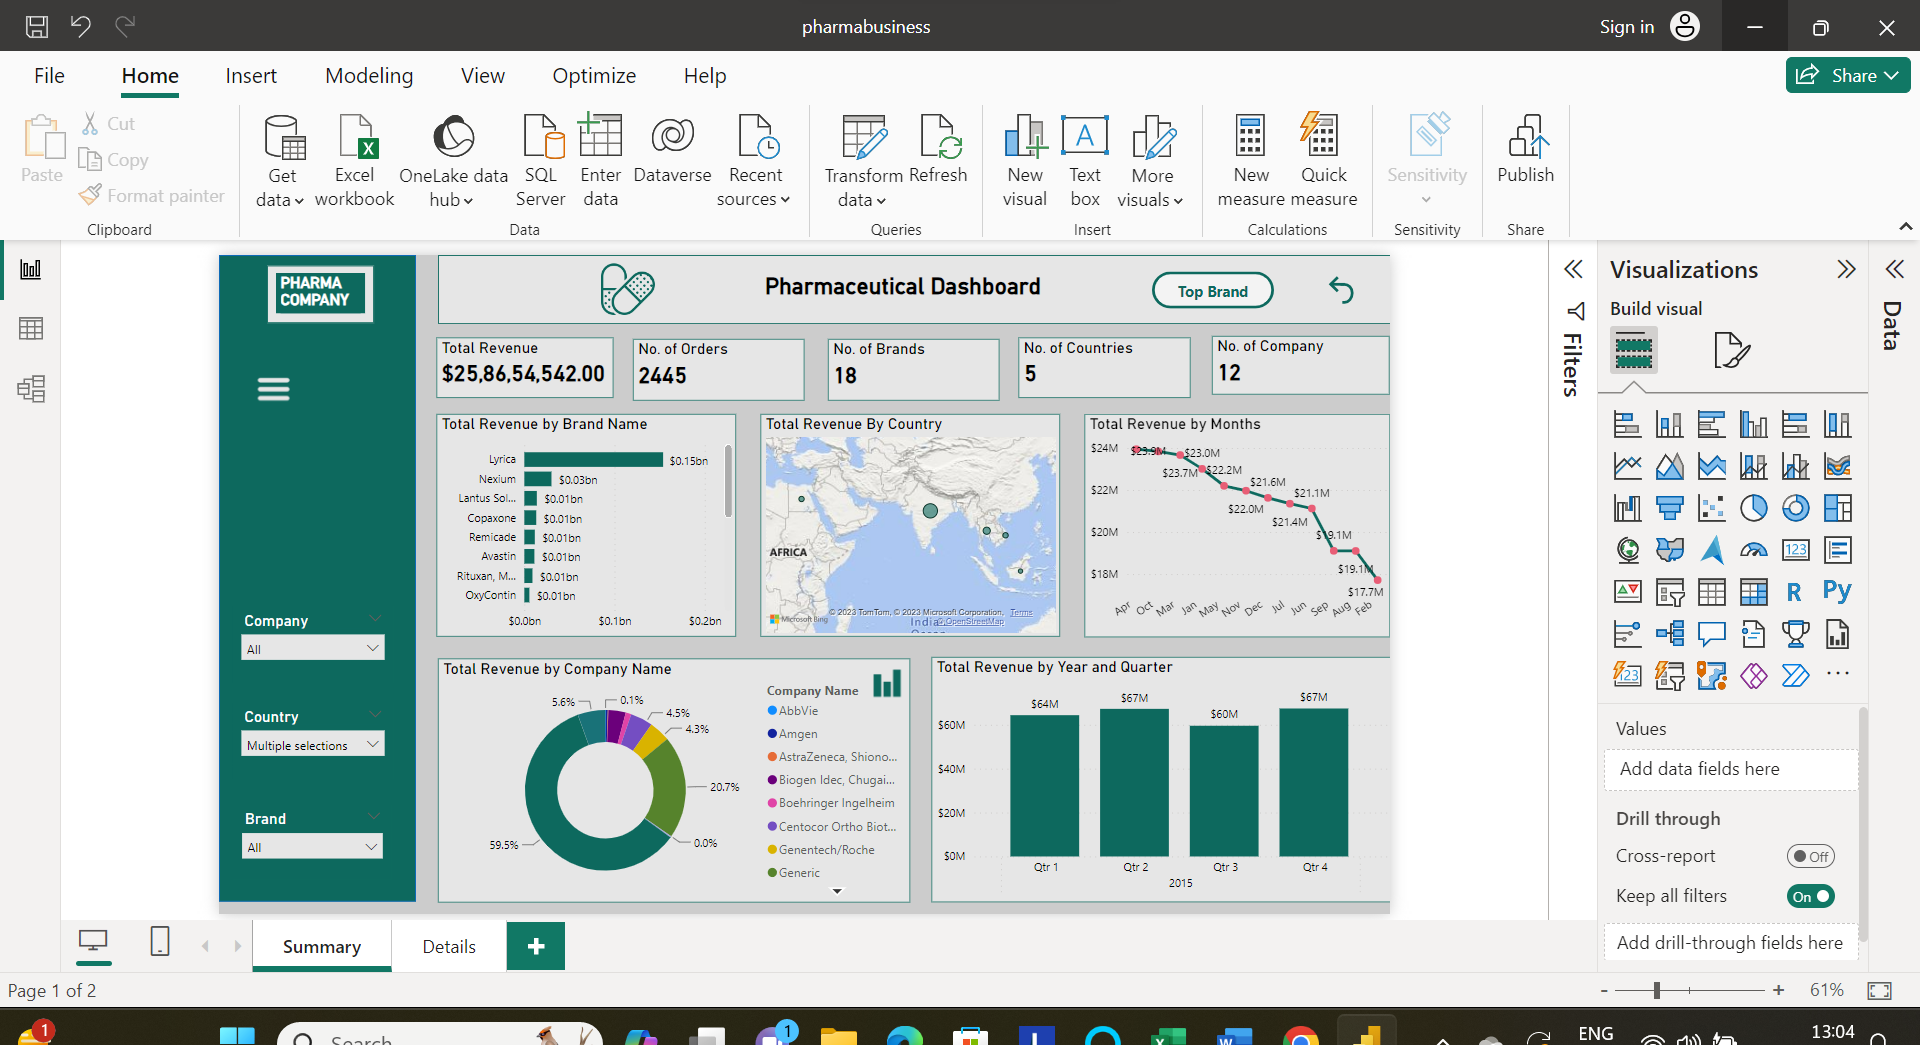

The page's visual inventory and layout, read from the dashboard file:
{"tool":"powerbi","page":{"name":"Summary","canvas":[1280,720],"ordinal":0},"visuals":[{"type":"shape","box":[238.6,0,1042.1,75.4],"z":0},{"type":"shape","box":[52,12,117,63],"z":0,"group":"g1"},{"type":"textbox","title":"Pharmaceutical Dashboard","box":[591.5,20.3,337.3,69.5],"z":1000},{"type":"textbox","title":"PHARMA COMPANY","box":[62,21,97,46],"z":1000,"group":"g1"},{"type":"multiRowCard","title":"Total Revenue","fields":{"Values":["PharmaDataset.Total Revenue"]},"box":[238.6,89.5,187.7,66.7],"z":2000},{"type":"multiRowCard","title":"No. of Countries","fields":{"Values":["PharmaDataset.#No. of country"]},"box":[874.3,90.5,187.8,66.2],"z":3000},{"type":"multiRowCard","title":"No. of Brands","fields":{"Values":["PharmaDataset.#No. of brand"]},"box":[666.2,90.5,187.8,64.9],"z":4000},{"type":"clusteredBarChart","fields":{"Category":["PharmaDataset.Brand Name"],"Y":["PharmaDataset.Total Revenue"]},"box":[237.8,174.3,327,243.2],"z":5000},{"type":"shape","box":[0,0,215.3,706.8],"z":6000},{"type":"multiRowCard","title":"No. of Company","fields":{"Values":["PharmaDataset.#No. of company"]},"box":[1086,88,194,64],"z":7000},{"type":"slicer","title":"Country","fields":{"Values":["PharmaDataset.ship to country"]},"box":[14.1,488.9,175.8,84.8],"z":8000},{"type":"multiRowCard","title":"No. of Orders","fields":{"Values":["PharmaDataset.#Total orders"]},"box":[452.7,90.5,187.8,67.6],"z":9000},{"type":"map","title":"Total Revenue  By Country","fields":{"Category":["PharmaDataset.ship to country"],"Size":["PharmaDataset.Total Revenue"]},"box":[591.9,174.3,327,243.2],"z":10000},{"type":"lineChart","fields":{"Y":["PharmaDataset.Total Revenue"],"Category":["PharmaDataset.Months"]},"box":[946,174,334,244],"z":12000},{"type":"slicer","title":"Brand","fields":{"Values":["PharmaDataset.Brand Name"]},"box":[15.2,600,174.7,82.8],"z":13000},{"type":"image","box":[402,0,90.2,74.5],"z":14000},{"type":"group","id":"g1","title":"Group 1","box":[52,12,117,63],"z":15000},{"type":"clusteredColumnChart","fields":{"Y":["Sum(PharmaDataset.Revenue)"],"Category":["PharmaDataset.Invoice date.Variation.Date Hierarchy.Year","PharmaDataset.Invoice date.Variation.Date Hierarchy.Quarter","PharmaDataset.Invoice date.Variation.Date Hierarchy.Month"]},"box":[778,440,502,268],"z":16000},{"type":"actionButton","title":"Top Brand Button","box":[1019.3,17.5,133.3,40.4],"z":17000},{"type":"actionButton","title":"Reset Button","box":[1207,17.5,57.9,40.4],"z":18000},{"type":"donutChart","title":"Total Revenue by Company Name","fields":{"Category":["PharmaDataset.Company Name"],"Y":["Sum(PharmaDataset.Revenue)"]},"box":[238.6,440.4,515.8,266.7],"z":19000},{"type":"actionButton","title":"Column Button","box":[707,440.4,47.4,54.4],"z":21000},{"type":"actionButton","title":"Menu Button","box":[36.8,119.3,47.4,54.4],"z":22000},{"type":"slicer","title":"Country","fields":{"Values":["PharmaDataset.Company Name"]},"box":[15.2,382.8,175.8,84.8],"z":26000}]}

Visuals, with their boxes on the page's 1280x720 design canvas (x1, y1, x2, y2). These are canvas units, not pixel positions in the 1920x1045 screenshot, which may show the page scaled, cropped or inside an application window:
shape: (left=239, top=0, right=1281, bottom=75)
shape: (left=52, top=12, right=169, bottom=75)
"Pharmaceutical Dashboard" textbox: (left=592, top=20, right=929, bottom=90)
"PHARMA COMPANY" textbox: (left=62, top=21, right=159, bottom=67)
"Total Revenue" multiRowCard: (left=239, top=90, right=426, bottom=156)
"No. of Countries" multiRowCard: (left=874, top=90, right=1062, bottom=157)
"No. of Brands" multiRowCard: (left=666, top=90, right=854, bottom=155)
clusteredBarChart - PharmaDataset.Brand Name x PharmaDataset.Total Revenue: (left=238, top=174, right=565, bottom=418)
shape: (left=0, top=0, right=215, bottom=707)
"No. of Company" multiRowCard: (left=1086, top=88, right=1280, bottom=152)
"Country" slicer: (left=14, top=489, right=190, bottom=574)
"No. of Orders" multiRowCard: (left=453, top=90, right=640, bottom=158)
"Total Revenue  By Country" map: (left=592, top=174, right=919, bottom=418)
lineChart - PharmaDataset.Total Revenue x PharmaDataset.Months: (left=946, top=174, right=1280, bottom=418)
"Brand" slicer: (left=15, top=600, right=190, bottom=683)
image: (left=402, top=0, right=492, bottom=74)
"Group 1" group: (left=52, top=12, right=169, bottom=75)
clusteredColumnChart - Sum(PharmaDataset.Revenue) x PharmaDataset.Invoice date.Variation.Date Hierarchy.Year: (left=778, top=440, right=1280, bottom=708)
"Top Brand Button" actionButton: (left=1019, top=18, right=1153, bottom=58)
"Reset Button" actionButton: (left=1207, top=18, right=1265, bottom=58)
"Total Revenue by Company Name" donutChart: (left=239, top=440, right=754, bottom=707)
"Column Button" actionButton: (left=707, top=440, right=754, bottom=495)
"Menu Button" actionButton: (left=37, top=119, right=84, bottom=174)
"Country" slicer: (left=15, top=383, right=191, bottom=468)
